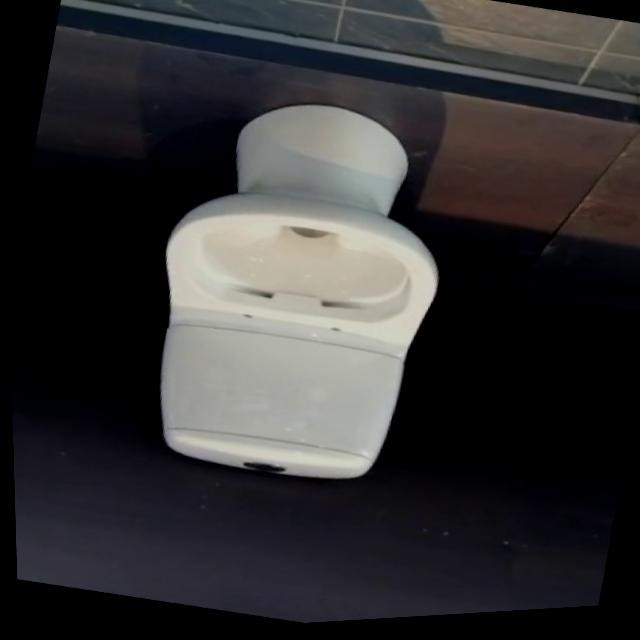toilet: (116, 74, 475, 512)
